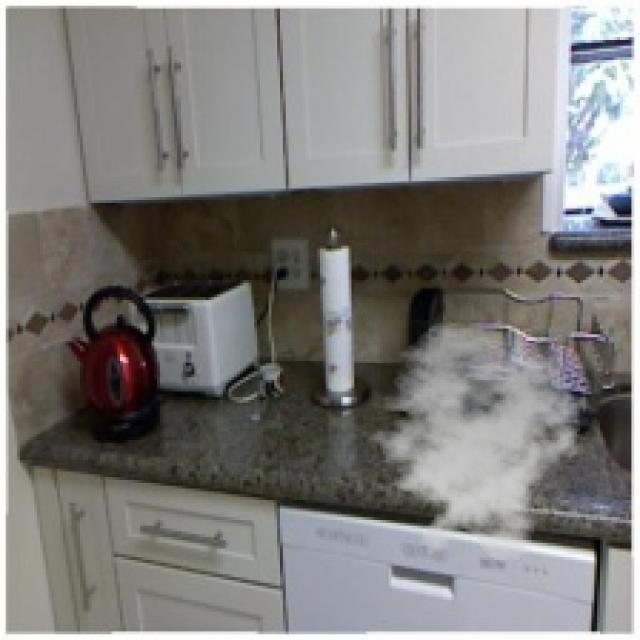Smoke: (357, 320, 594, 563)
